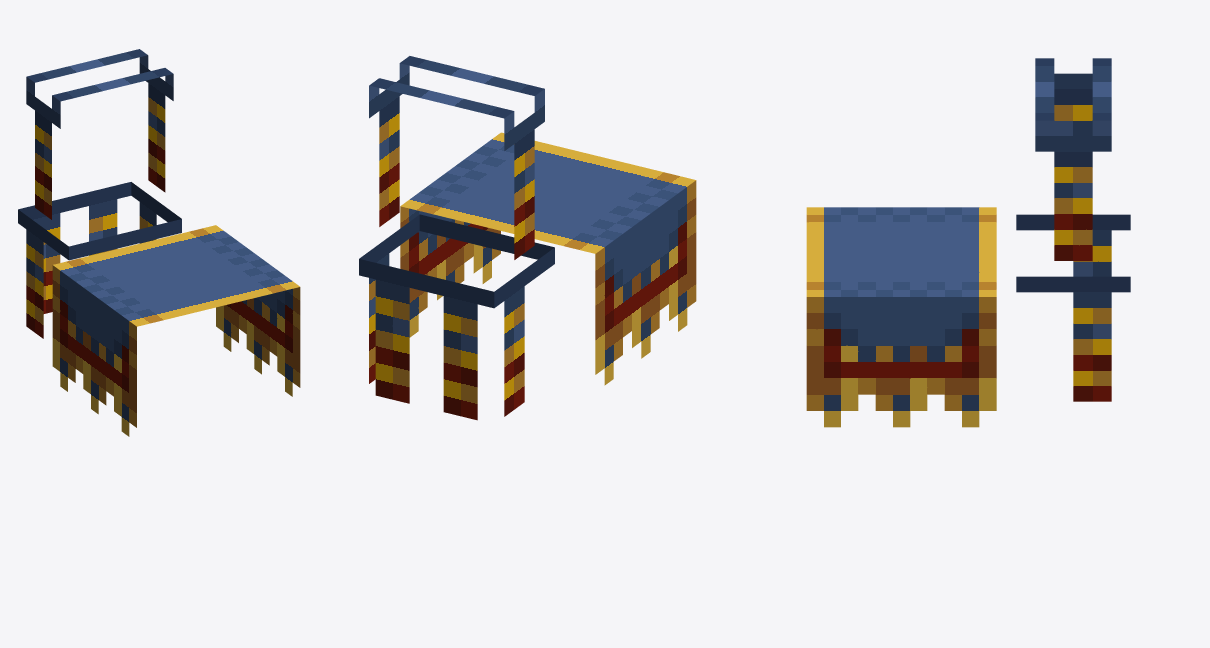
Rendered from trader_llama_baby_decor.gltf.
The picture shows the model from 3 angles, left to right: view 1: azimuth 30°, elevation 25°; view 2: azimuth 150°, elevation 25°; view 3: azimuth 270°, elevation 25°; orthographic projection. The views are drawn at different scales.
Parts seen in each view (by area): view 1: body, head; view 2: body, head; view 3: body, head.
Boxes of the visible parts, x1,y1,x2,y2 form: body: (52, 225, 300, 436); head: (18, 49, 181, 338); body: (400, 132, 696, 385); head: (359, 56, 554, 420); body: (806, 207, 996, 427); head: (1016, 58, 1130, 401).
Size of the model in its own units: 1.12 by 2.31 by 1.69.
Materials: 1 (1 with a texture image).
